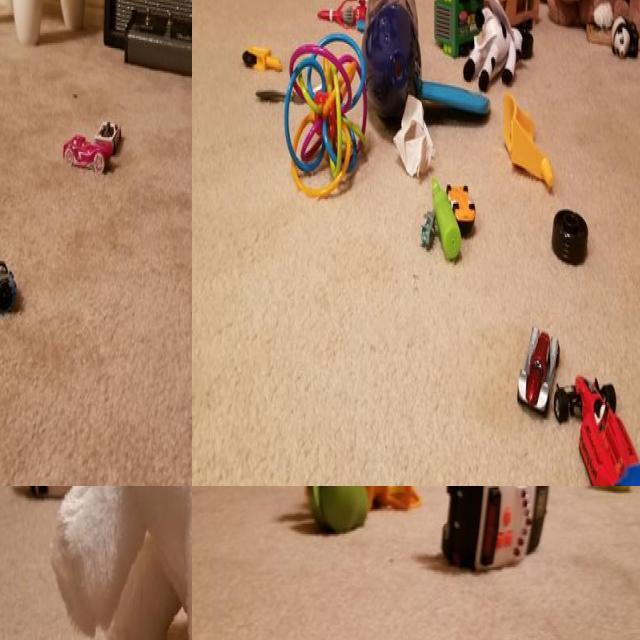toy: (58, 486, 192, 640), (287, 36, 366, 196), (556, 354, 640, 484), (448, 486, 551, 585), (491, 79, 559, 196), (468, 5, 531, 93), (510, 313, 559, 417), (431, 173, 465, 260), (309, 486, 370, 533), (61, 127, 110, 179), (432, 0, 479, 53), (548, 215, 592, 264), (446, 165, 476, 229), (319, 0, 365, 34), (93, 110, 124, 158), (610, 14, 638, 58), (242, 46, 284, 74), (415, 206, 437, 252)
